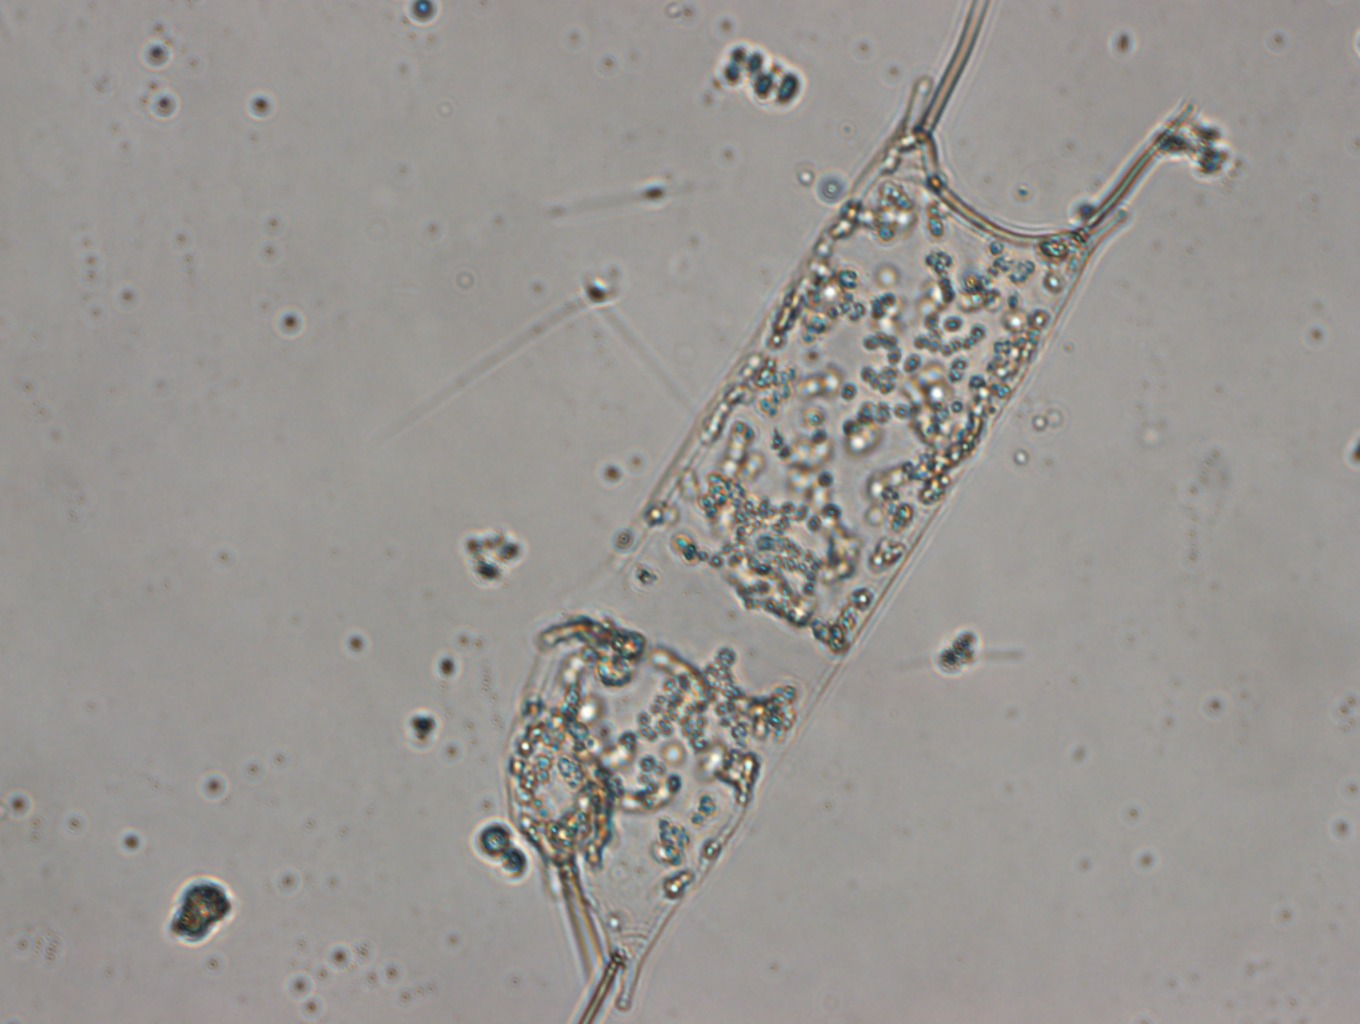biddulphia: (503, 1, 1192, 1022)
